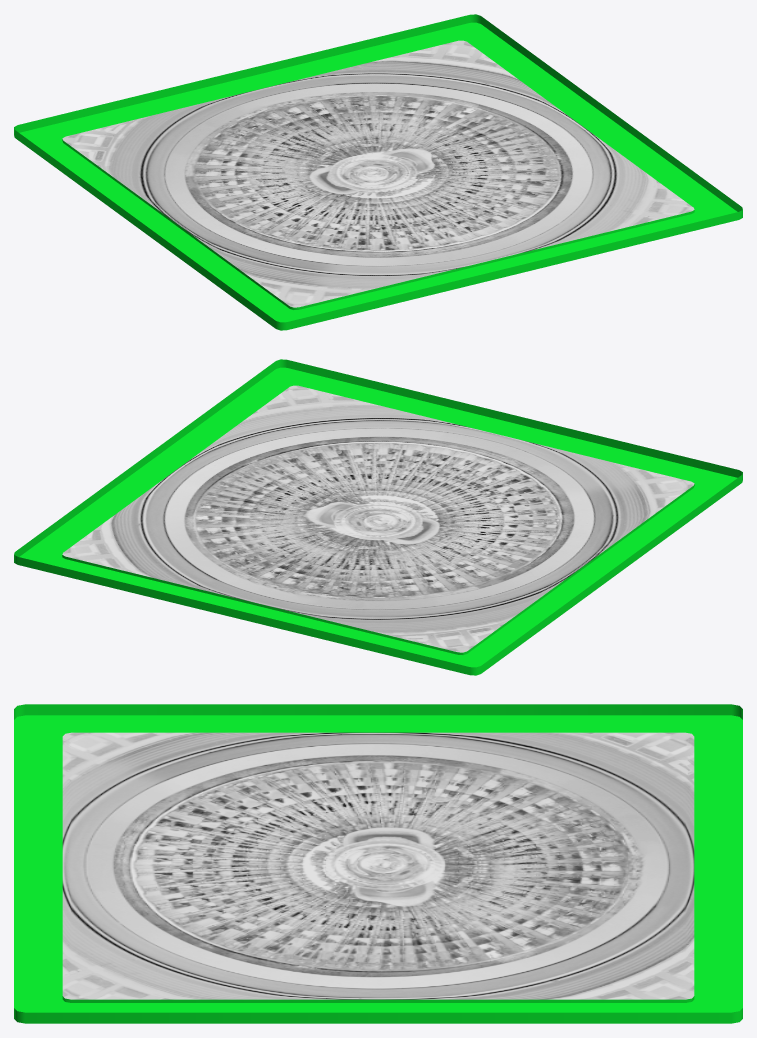
Rendered from LightCeiling02_3.FBX.
3 renders of one model, top to bottom at view 1: azimuth 30°, elevation 25°; view 2: azimuth 150°, elevation 25°; view 3: azimuth 270°, elevation 25°, orthographic. The views are drawn at different scales.
Visible parts, largest first — view 1: LightCeiling02_3; view 2: LightCeiling02_3; view 3: LightCeiling02_3.
Part boxes in pixels (bbox=[...]): LightCeiling02_3: bbox=[14, 14, 742, 330]; LightCeiling02_3: bbox=[14, 359, 742, 675]; LightCeiling02_3: bbox=[14, 704, 742, 1023].
Size of the model in its own units: 30 by 0.5026 by 30.
